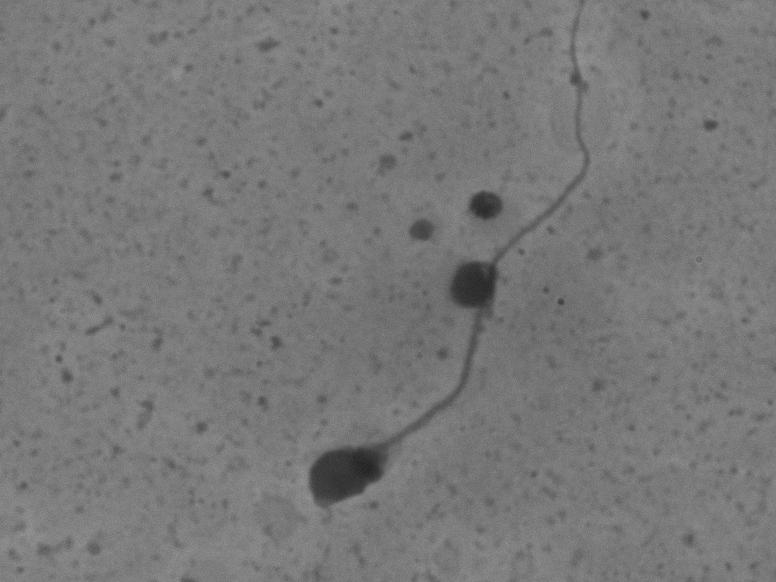Abnormal: (292, 3, 650, 534)
